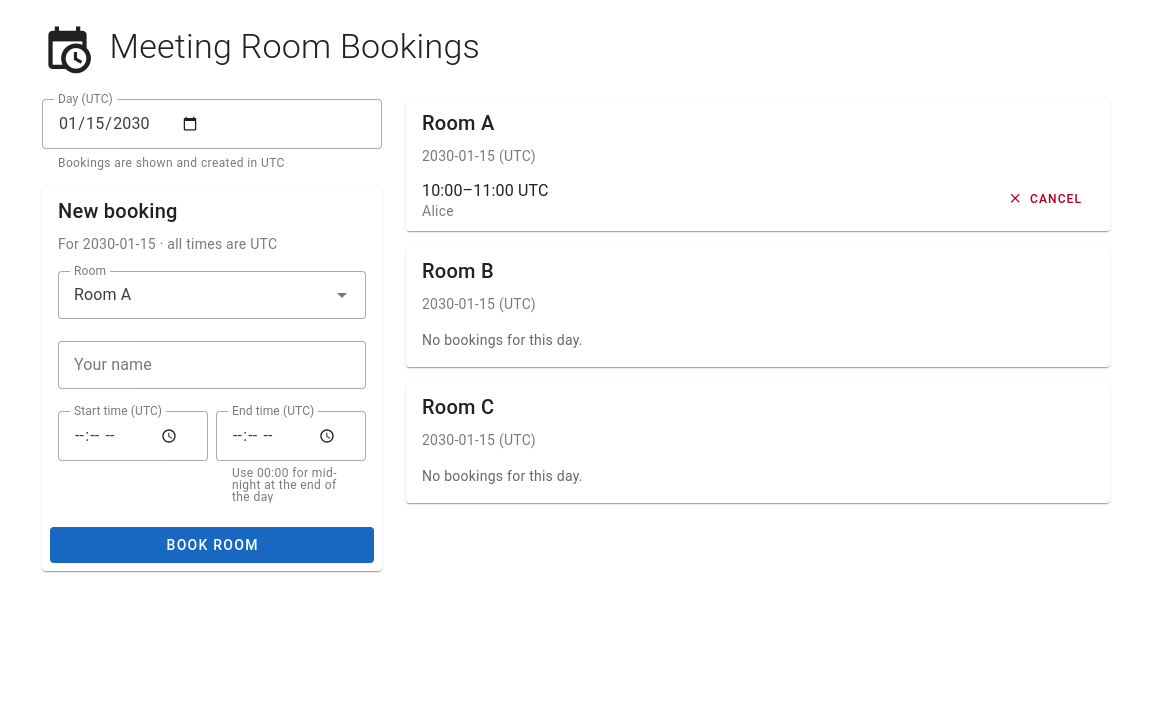
Scenario: RoomBookings › shows an error when cancelling fails and keeps the booking listed
Click the button "Cancel": (1046, 199) [998,185,1094,213]
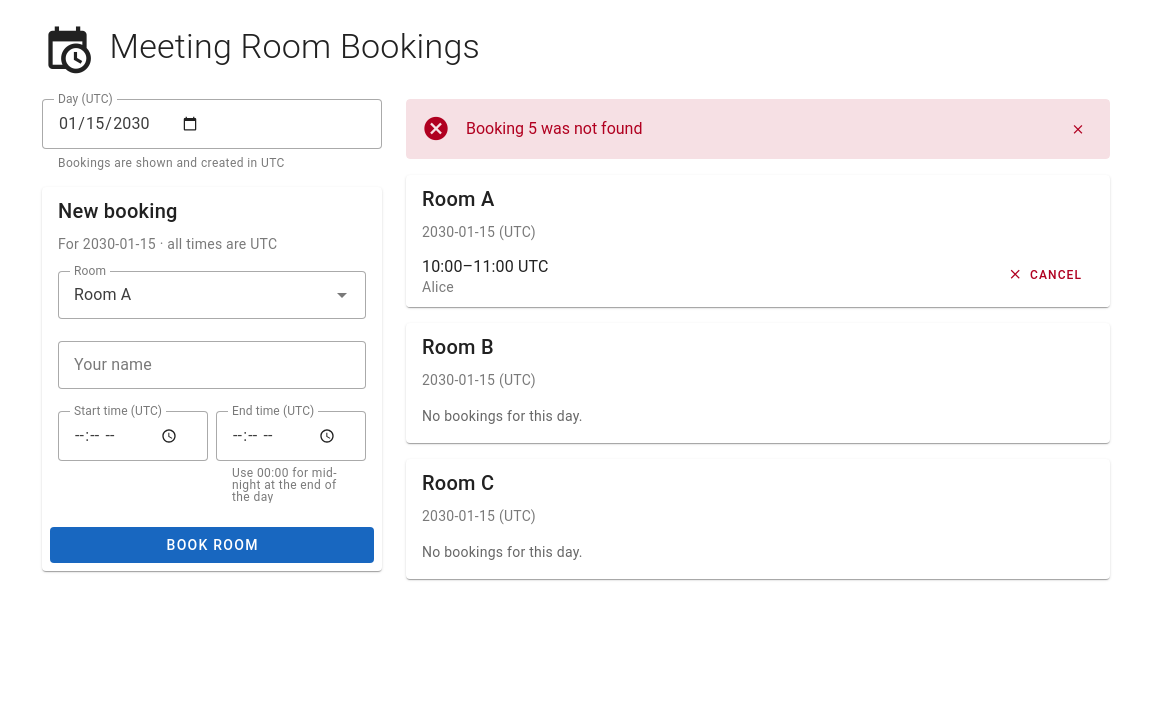
Check: the element showing "Room A 2030-01-15 (UTC) 10:00–11:00 UTC Alice Cancel" is shown, box [406,175,1110,307]
Check: the text "Booking 5 was not found" is shown, box [466,119,642,138]
